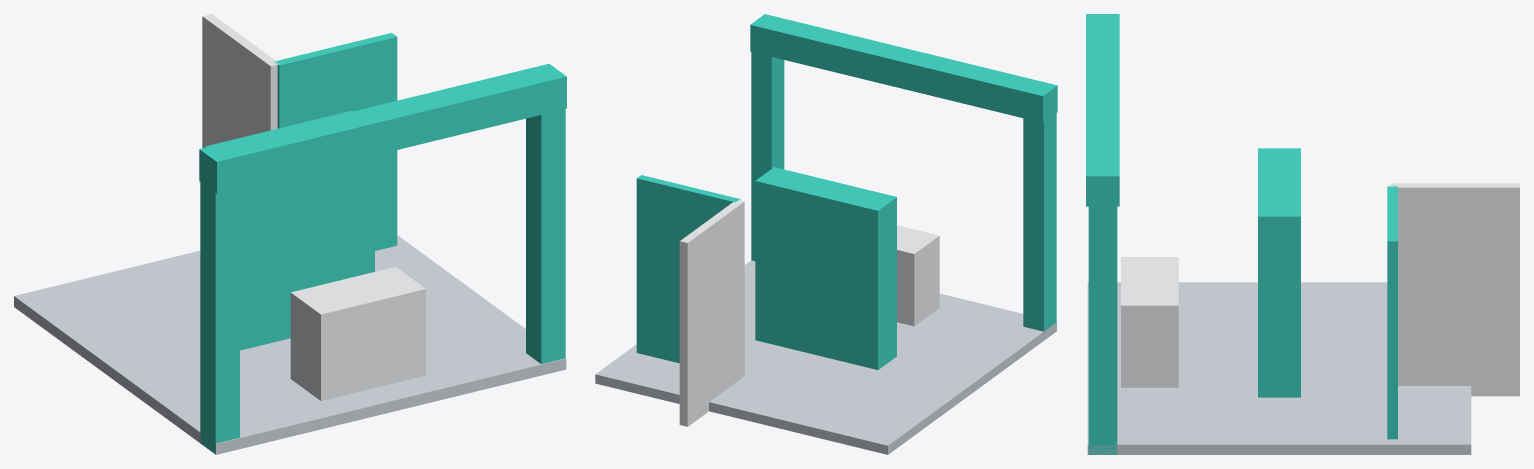
3 views of the same model, side by side, from view 1: azimuth 30°, elevation 25°; view 2: azimuth 150°, elevation 25°; view 3: azimuth 270°, elevation 25° (orthographic). The views are drawn at different scales.
Parts seen in each view (by area): view 1: Exhibition Booth Concept; view 2: Exhibition Booth Concept; view 3: Exhibition Booth Concept.
Part boxes in pixels (left/top/right/bottom): Exhibition Booth Concept: left=14, top=14, right=566, bottom=454; Exhibition Booth Concept: left=595, top=14, right=1057, bottom=454; Exhibition Booth Concept: left=1086, top=14, right=1519, bottom=454.
Size of the model in its own units: 4 by 3.2 by 4.52.
